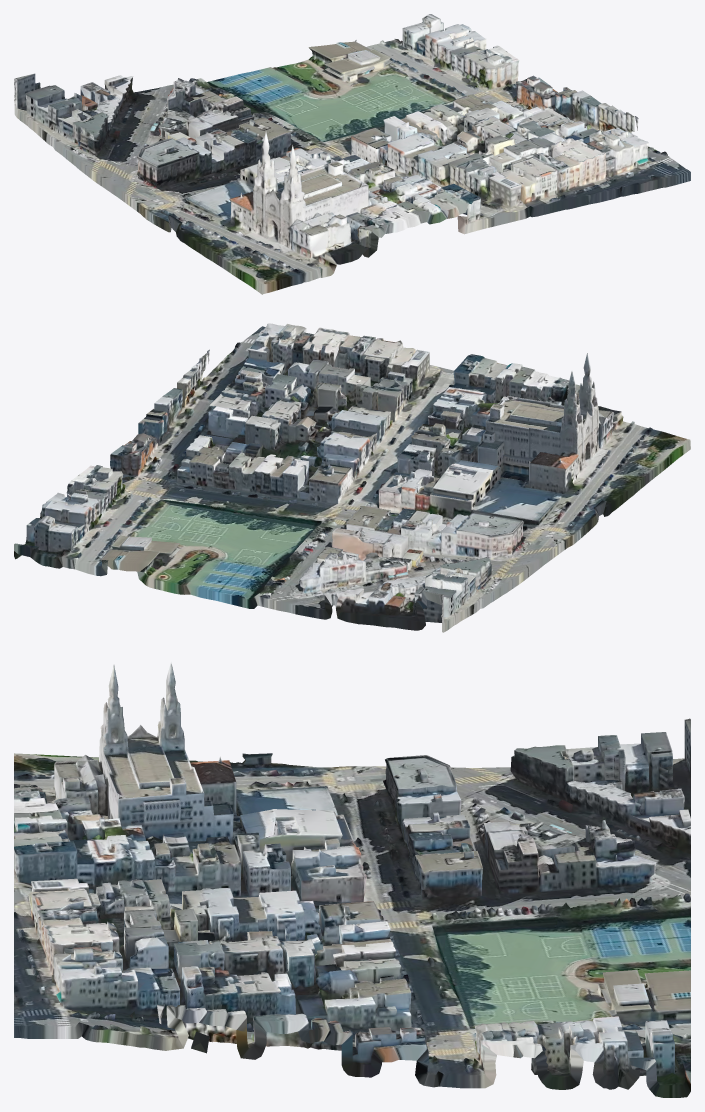
The model's file is z17-20967-50649-h0-yup-uvflip-v3-world.glb.
3 views of the same model, one above another, from view 1: azimuth 30°, elevation 25°; view 2: azimuth 150°, elevation 25°; view 3: azimuth 270°, elevation 25° (orthographic). The views are drawn at different scales.
Bounding box in the file's own units: 242 × 76.48 × 243.
1 material, 1 textured.
